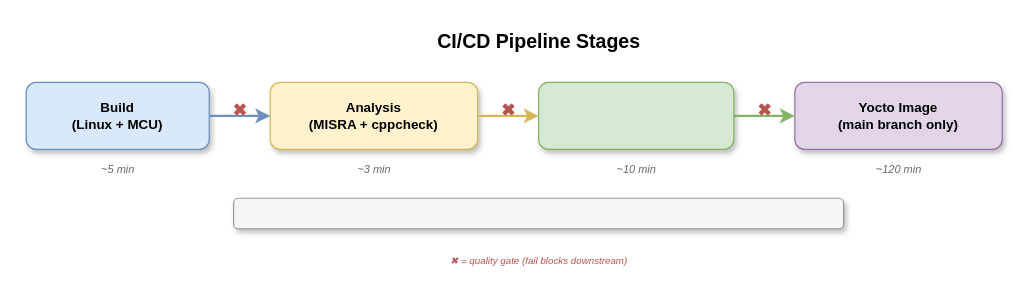
This 1031x288 diagram has some shape labels left out. Here are the shapes that lost their labels. From the top down, the centre of each, then its label:
the point at 637,117: SIL Tests (QEMU dual-VM)
the point at 539,214: All stages run in isolated Docker containers. No host toolchain required.
